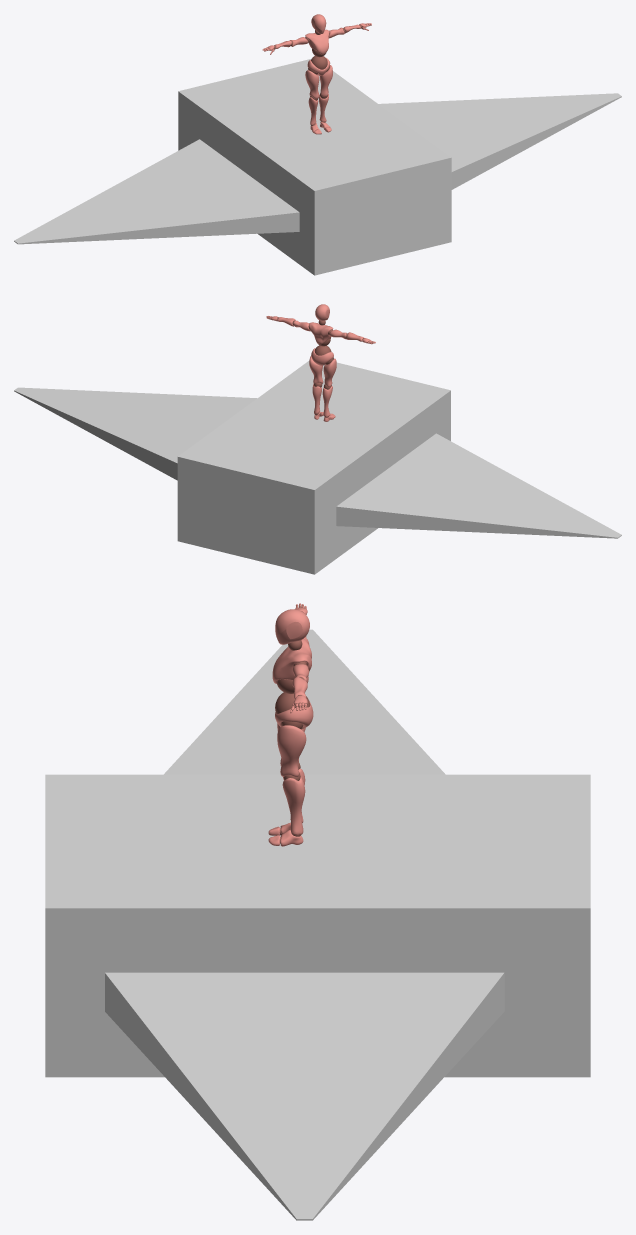
File: source.fbx
3 views of the same model, one above another, from view 1: azimuth 30°, elevation 25°; view 2: azimuth 150°, elevation 25°; view 3: azimuth 270°, elevation 25° (orthographic). The views are drawn at different scales.
Visible parts, largest first — view 1: 立方体, 立方体.001, 立方体.002, Beta_Surface, Beta_Joints; view 2: 立方体, 立方体.001, 立方体.002, Beta_Surface, Beta_Joints; view 3: 立方体, 立方体.002, 立方体.001, Beta_Surface, Beta_Joints.
Boxes of the visible parts, x1=… form: 立方体: x1=178, y1=58, x2=451, y2=275; 立方体.001: x1=14, y1=139, x2=299, y2=244; 立方体.002: x1=378, y1=93, x2=621, y2=189; Beta_Surface: x1=262, y1=14, x2=371, y2=134; Beta_Joints: x1=264, y1=23, x2=370, y2=129; 立方体: x1=177, y1=361, x2=450, y2=574; 立方体.001: x1=336, y1=433, x2=621, y2=538; 立方体.002: x1=14, y1=387, x2=257, y2=480; Beta_Surface: x1=266, y1=304, x2=375, y2=421; Beta_Joints: x1=267, y1=316, x2=373, y2=417; 立方体: x1=45, y1=774, x2=590, y2=1077; 立方体.002: x1=105, y1=972, x2=504, y2=1220; 立方体.001: x1=164, y1=629, x2=445, y2=774; Beta_Surface: x1=268, y1=603, x2=313, y2=846; Beta_Joints: x1=275, y1=604, x2=310, y2=843.
Bounding box in the file's own units: 1000 × 315 × 391.
